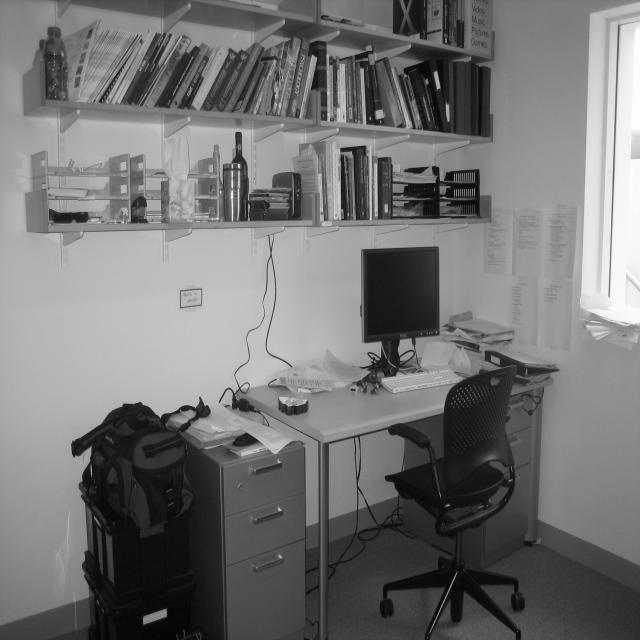screen occluded: (359, 247, 441, 345)
